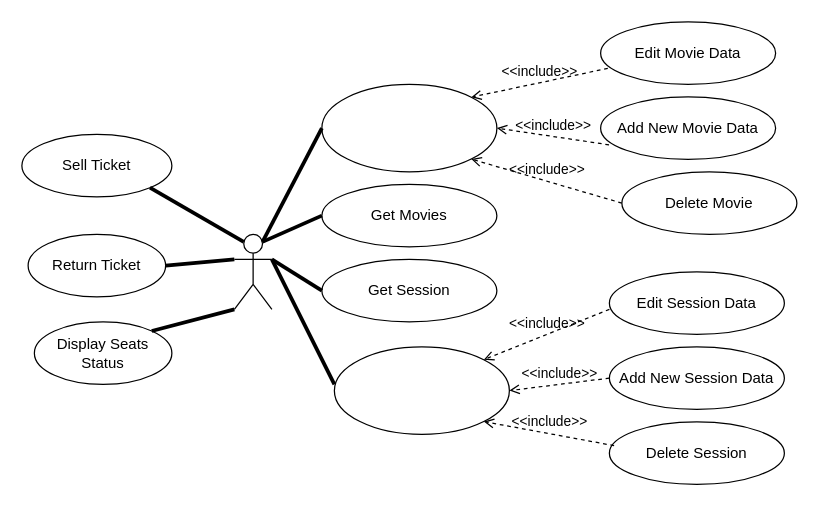
Some shapes in this 819 by 506 pixel diagram are drawn without their labels. The shapes that lost their labels are listed below. From the top down, each one's centre as x and y in pixels, then its label:
At point 409,127: "Manage Movie Data".
At point 252,271: "Cinema Manager".
At point 421,390: "Manage Session Data".
